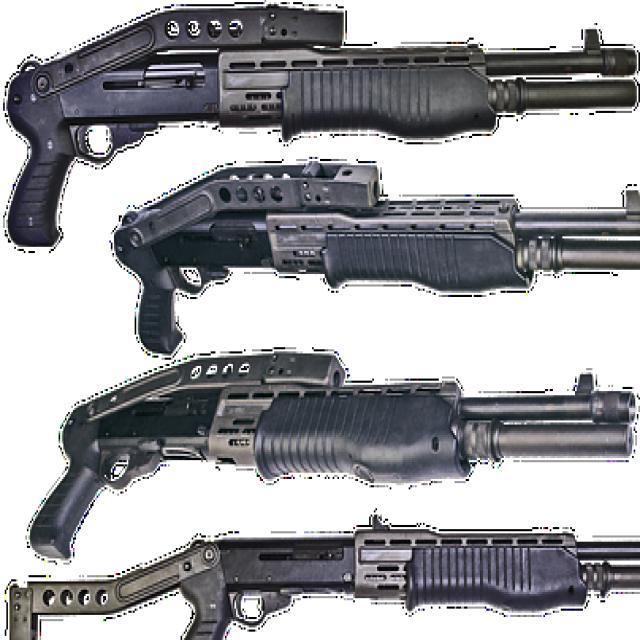Weapon: (8, 6, 637, 245), (32, 353, 634, 556), (114, 161, 640, 353), (10, 517, 640, 640)
